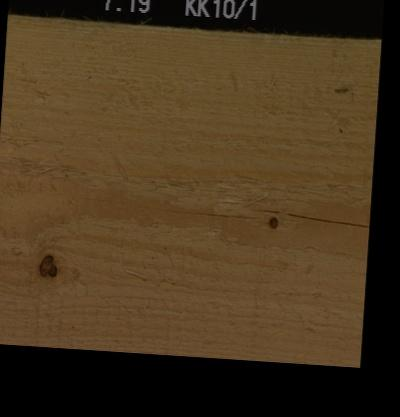dry_knot: (37, 251, 58, 277), (267, 214, 277, 226)
split: (83, 199, 257, 213), (284, 212, 369, 224)
